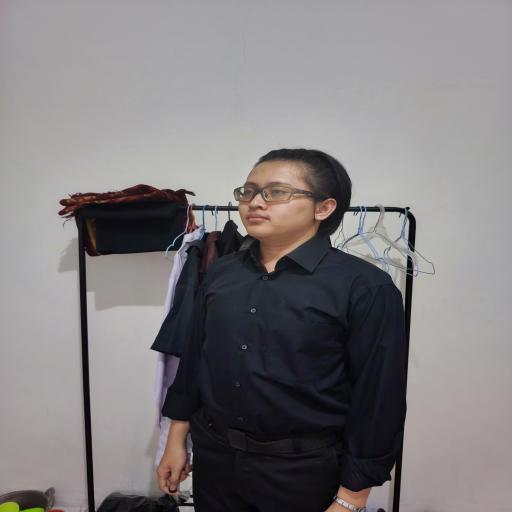celana_benar: (187, 450, 346, 512)
kemeja_salah: (148, 254, 420, 432)
sabuk_ada: (184, 428, 357, 460)
